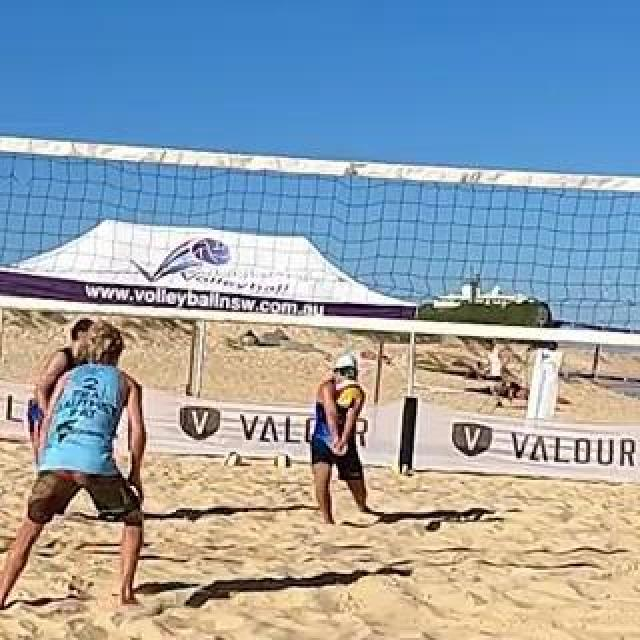volleyball: (335, 380, 367, 410), (223, 449, 241, 467), (273, 453, 291, 471)
